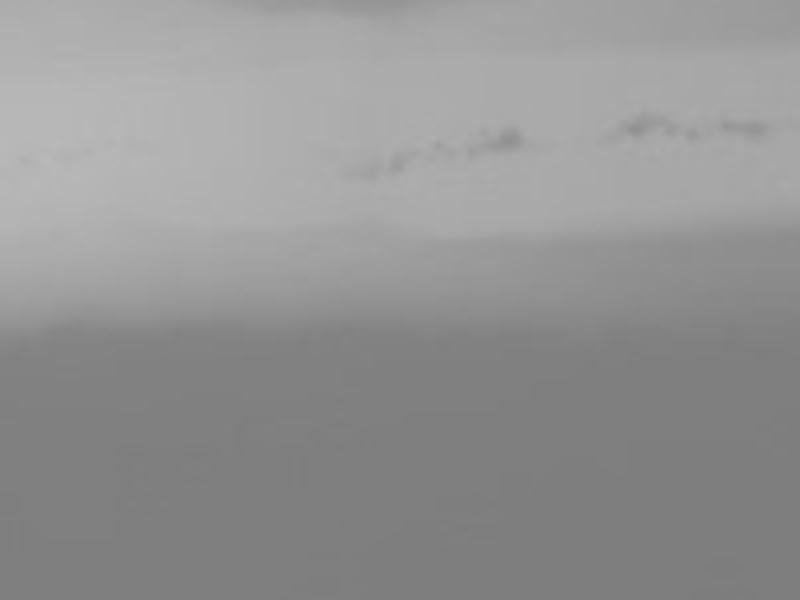defect: (484, 122, 525, 152), (337, 159, 381, 185), (625, 109, 658, 138), (733, 116, 764, 144), (382, 151, 413, 178), (596, 125, 624, 150), (19, 152, 42, 172), (715, 114, 735, 134), (661, 120, 680, 139), (466, 141, 482, 161), (685, 127, 701, 147), (427, 136, 444, 152)
